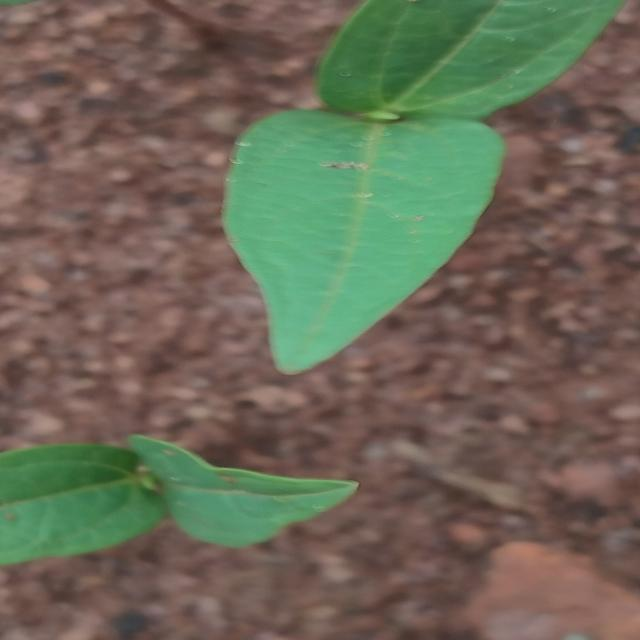Black gram_healthy: (222, 102, 515, 372)
